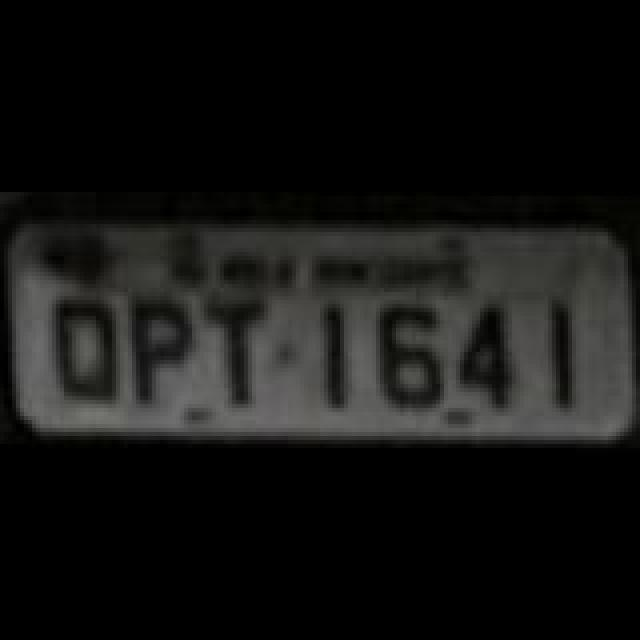1: (540, 292, 588, 412), (314, 288, 358, 404)
4: (454, 296, 522, 412)
6: (370, 294, 446, 406)
P: (126, 294, 194, 410)
Q: (46, 288, 114, 408)
T: (198, 290, 266, 402)
